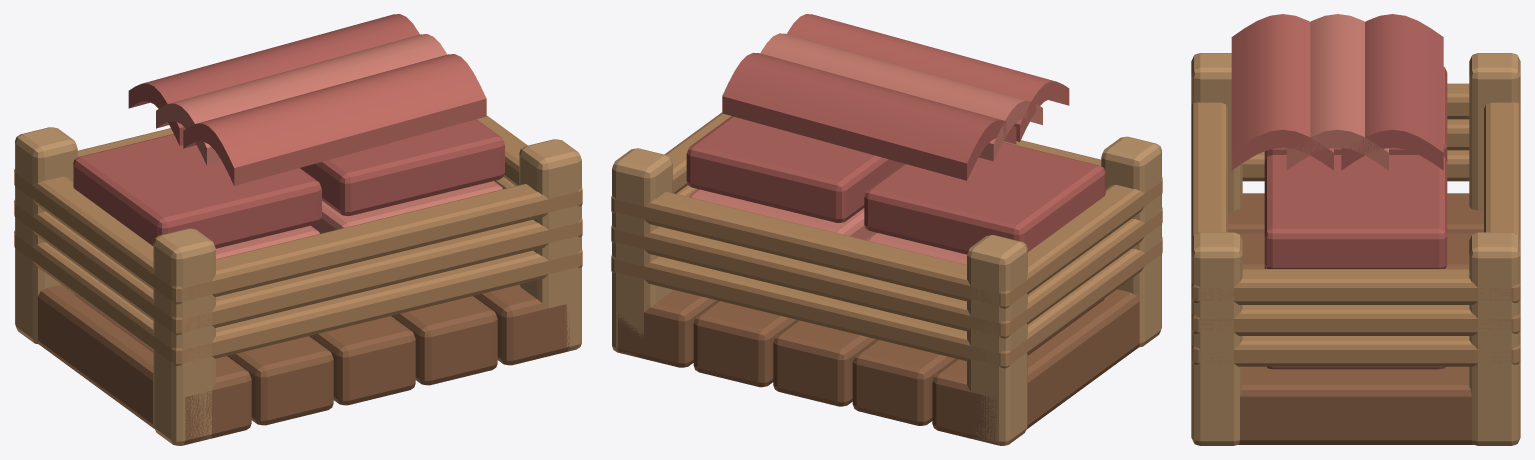
Rendered from goods_bricks_tiles_crate.glb.
3 renders of one model, left to right at view 1: azimuth 30°, elevation 25°; view 2: azimuth 150°, elevation 25°; view 3: azimuth 270°, elevation 25°, orthographic. The views are drawn at different scales.
Parts seen in each view (by area): view 1: goods_bricks_tiles_crate; view 2: goods_bricks_tiles_crate; view 3: goods_bricks_tiles_crate.
Part boxes in pixels (x1,y1,x2,y2): goods_bricks_tiles_crate: [14, 14, 582, 445]; goods_bricks_tiles_crate: [611, 14, 1162, 445]; goods_bricks_tiles_crate: [1191, 14, 1520, 445].
Size of the model in its own units: 0.65 by 0.424 by 0.45.
